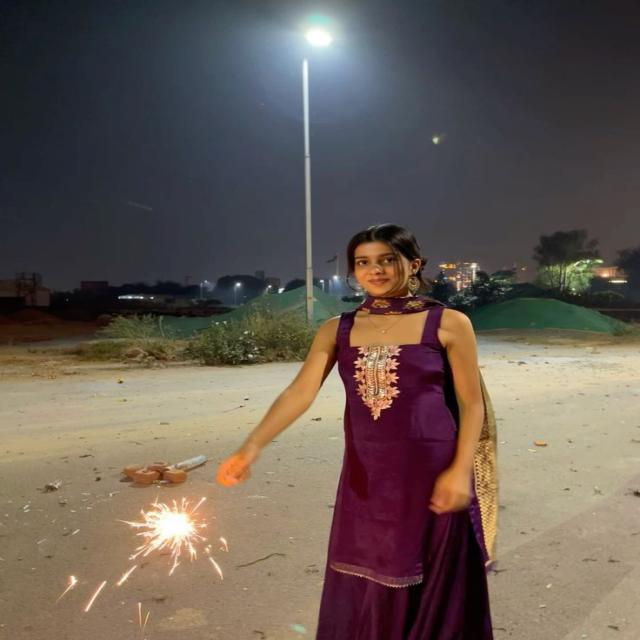fire: (146, 503, 193, 546)
